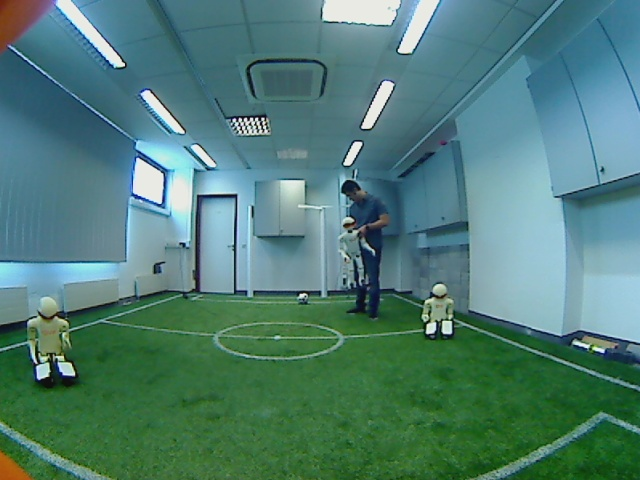ball: (293, 289, 315, 309)
robot: (19, 291, 88, 387), (335, 209, 380, 293), (413, 281, 461, 347)
